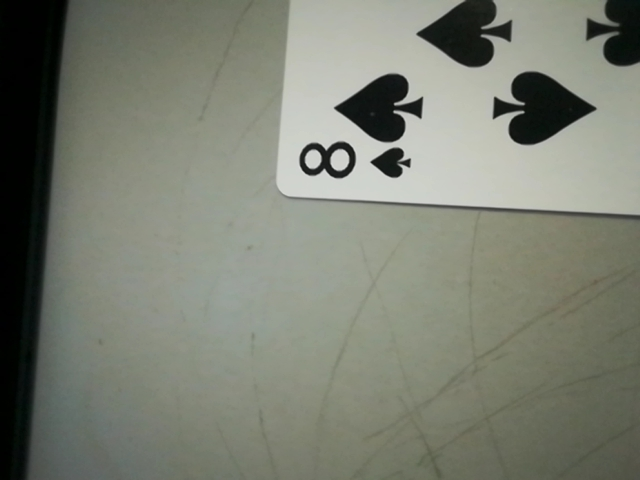ht 8: (282, 123, 423, 199)
